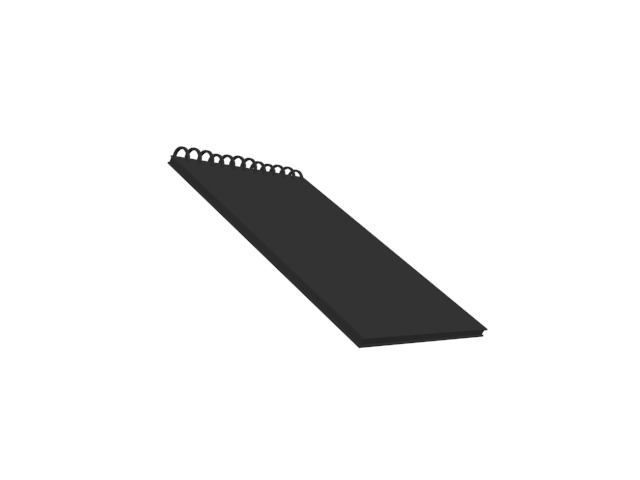paper_notebook: (161, 145, 488, 352)
